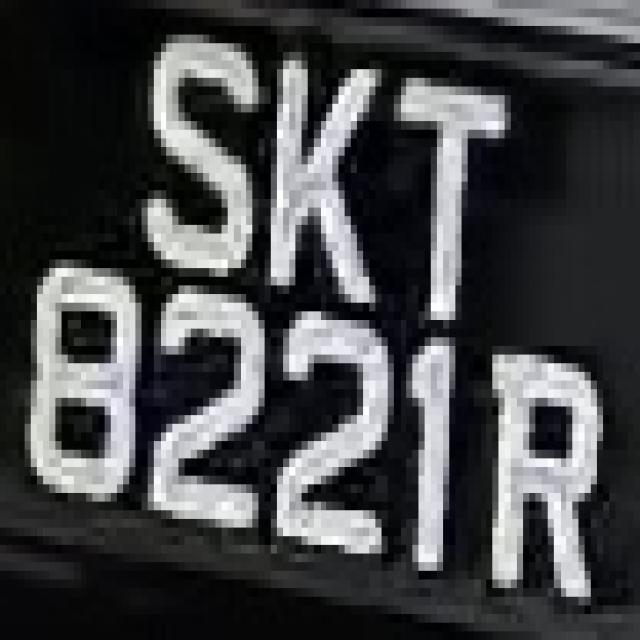1: (400, 320, 462, 597)
2: (264, 260, 388, 580), (142, 303, 264, 536)
8: (25, 233, 142, 528)
K: (252, 43, 376, 329)
R: (486, 337, 603, 623)
S: (136, 8, 258, 286)
T: (376, 44, 504, 338)
